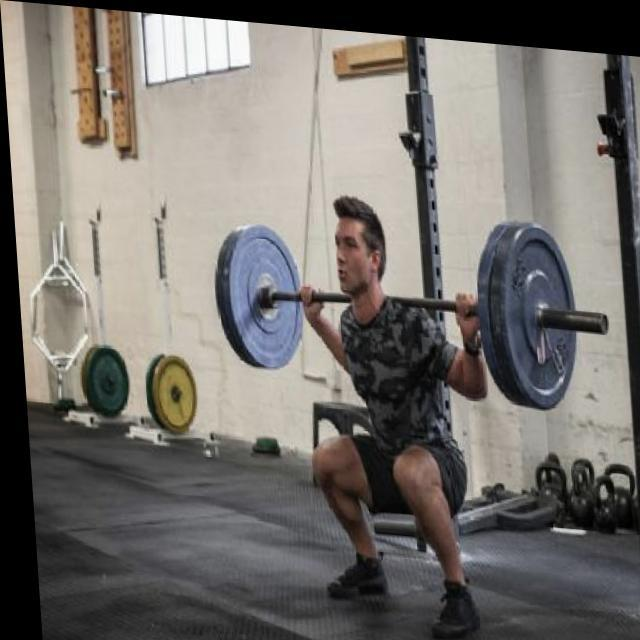barbell: (490, 209, 613, 406)
